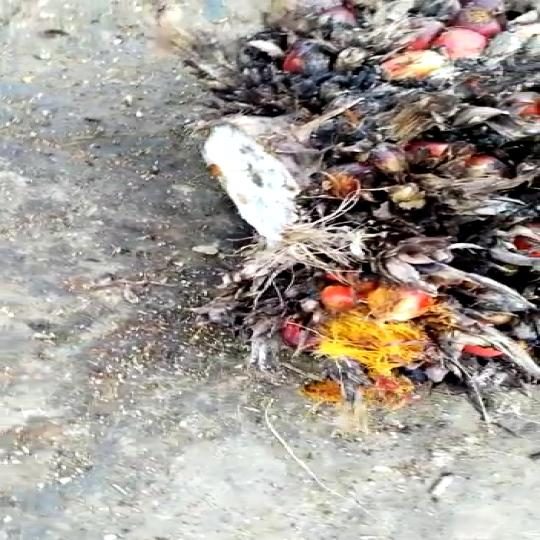terlalu masak: (188, 0, 540, 422)
